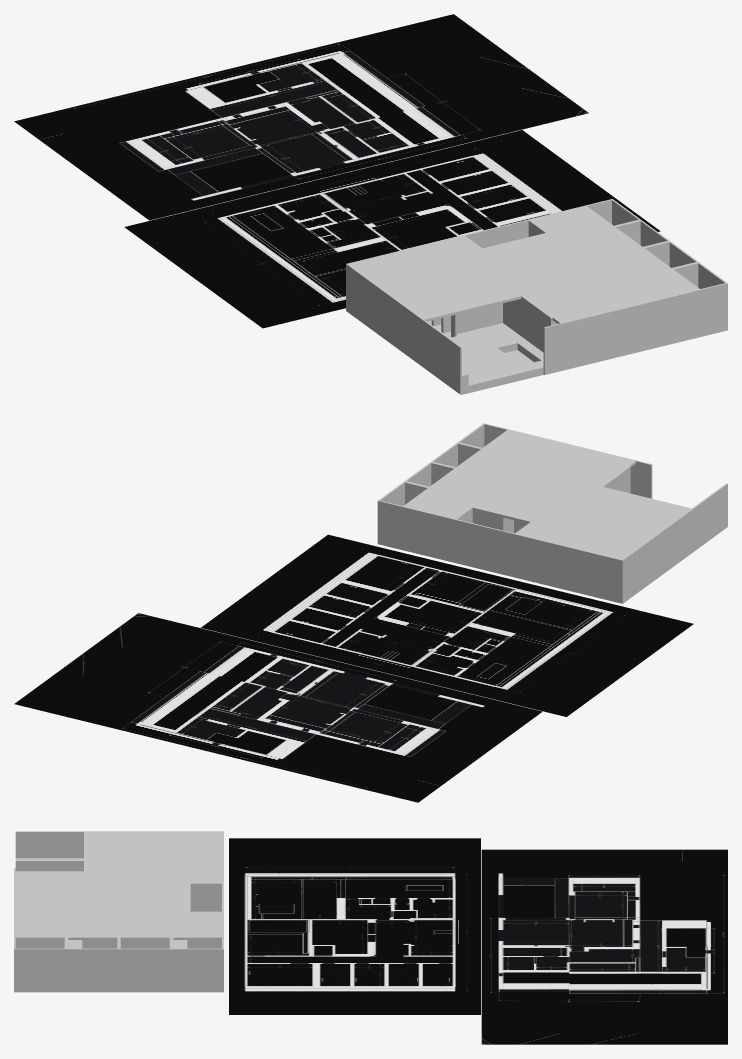
The model's file is Modèle3D Sous-Sol.fbx.
The picture shows the model from 3 angles, top to bottom: view 1: azimuth 30°, elevation 25°; view 2: azimuth 150°, elevation 25°; view 3: azimuth 270°, elevation 25°; orthographic projection. The views are drawn at different scales.
Visible parts, largest first — view 1: Model, Cour_int_rieur1, Salle_de_bain_1_1, Chambre_Valentine1, Salon1, Salle___manger1, Plafond4_1, Plafond5_1, Plafond2_1, Plafond1, Plafond16_1, Entr_e1 (+11 smaller); view 2: Model, Salle___manger1, Entr_e1, Chambre_Rosie_Anne1, Cuisine1, Cour_int_rieur1, Plafond4_1, Plafond5_1, Plafond2_1, Plafond1, Plafond16_1, Corridor1 (+11 smaller); view 3: Model, Cour_int_rieur1, Chambre_d_invit__2_1, Chambre_Valentine1, Chambre_Rosie_Anne1, Chambre_d_invit__1_1, Plafond4_1, Plafond5_1, Plafond2_1, Plafond1, Plafond16_1, Entr_e1 (+10 smaller).
Boxes of the visible parts, <box> form: Model: <box>14,14,660,328</box>; Cour_int_rieur1: <box>423,296,561,394</box>; Salle_de_bain_1_1: <box>523,275,644,370</box>; Chambre_Valentine1: <box>631,262,727,346</box>; Salon1: <box>403,283,521,366</box>; Salle___manger1: <box>346,251,453,352</box>; Plafond4_1: <box>525,276,641,323</box>; Plafond5_1: <box>487,248,603,295</box>; Plafond2_1: <box>349,253,452,305</box>; Plafond1: <box>405,282,522,321</box>; Plafond16_1: <box>532,216,640,288</box>; Entr_e1: <box>463,219,547,256</box>; Model: <box>14,534,693,802</box>; Salle___manger1: <box>577,510,675,603</box>; Entr_e1: <box>454,506,541,577</box>; Chambre_Rosie_Anne1: <box>377,481,464,558</box>; Cuisine1: <box>515,519,593,592</box>; Cour_int_rieur1: <box>602,460,727,551</box>; Plafond4_1: <box>526,443,635,485</box>; Plafond5_1: <box>492,469,599,511</box>; Plafond2_1: <box>579,511,673,559</box>; Plafond1: <box>584,486,691,521</box>; Plafond16_1: <box>442,451,540,518</box>; Corridor1: <box>439,451,542,562</box>; Model: <box>229,838,727,1044</box>; Cour_int_rieur1: <box>14,831,83,875</box>; Chambre_d_invit__2_1: <box>66,919,118,992</box>; Chambre_Valentine1: <box>14,919,66,992</box>; Chambre_Rosie_Anne1: <box>171,920,223,992</box>; Chambre_d_invit__1_1: <box>119,920,171,992</box>; Plafond4_1: <box>15,875,83,912</box>; Plafond5_1: <box>84,875,152,911</box>; Plafond2_1: <box>119,832,221,853</box>; Plafond1: <box>84,832,118,875</box>; Plafond16_1: <box>49,912,221,919</box>; Entr_e1: <box>171,883,223,912</box>.
Bounding box in the file's own units: 27.94 × 2.73 × 40.82.
